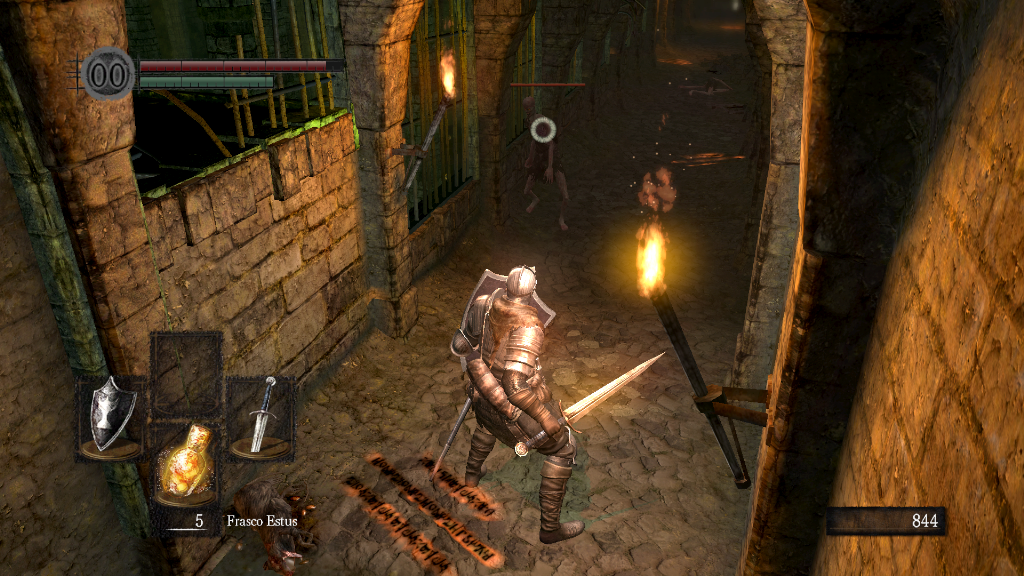health: (138, 58, 343, 71)
hollow: (513, 97, 572, 230)
humanity: (80, 45, 136, 102)
player: (430, 264, 668, 545)
souls: (825, 506, 945, 536)
stamina: (138, 74, 274, 88)
